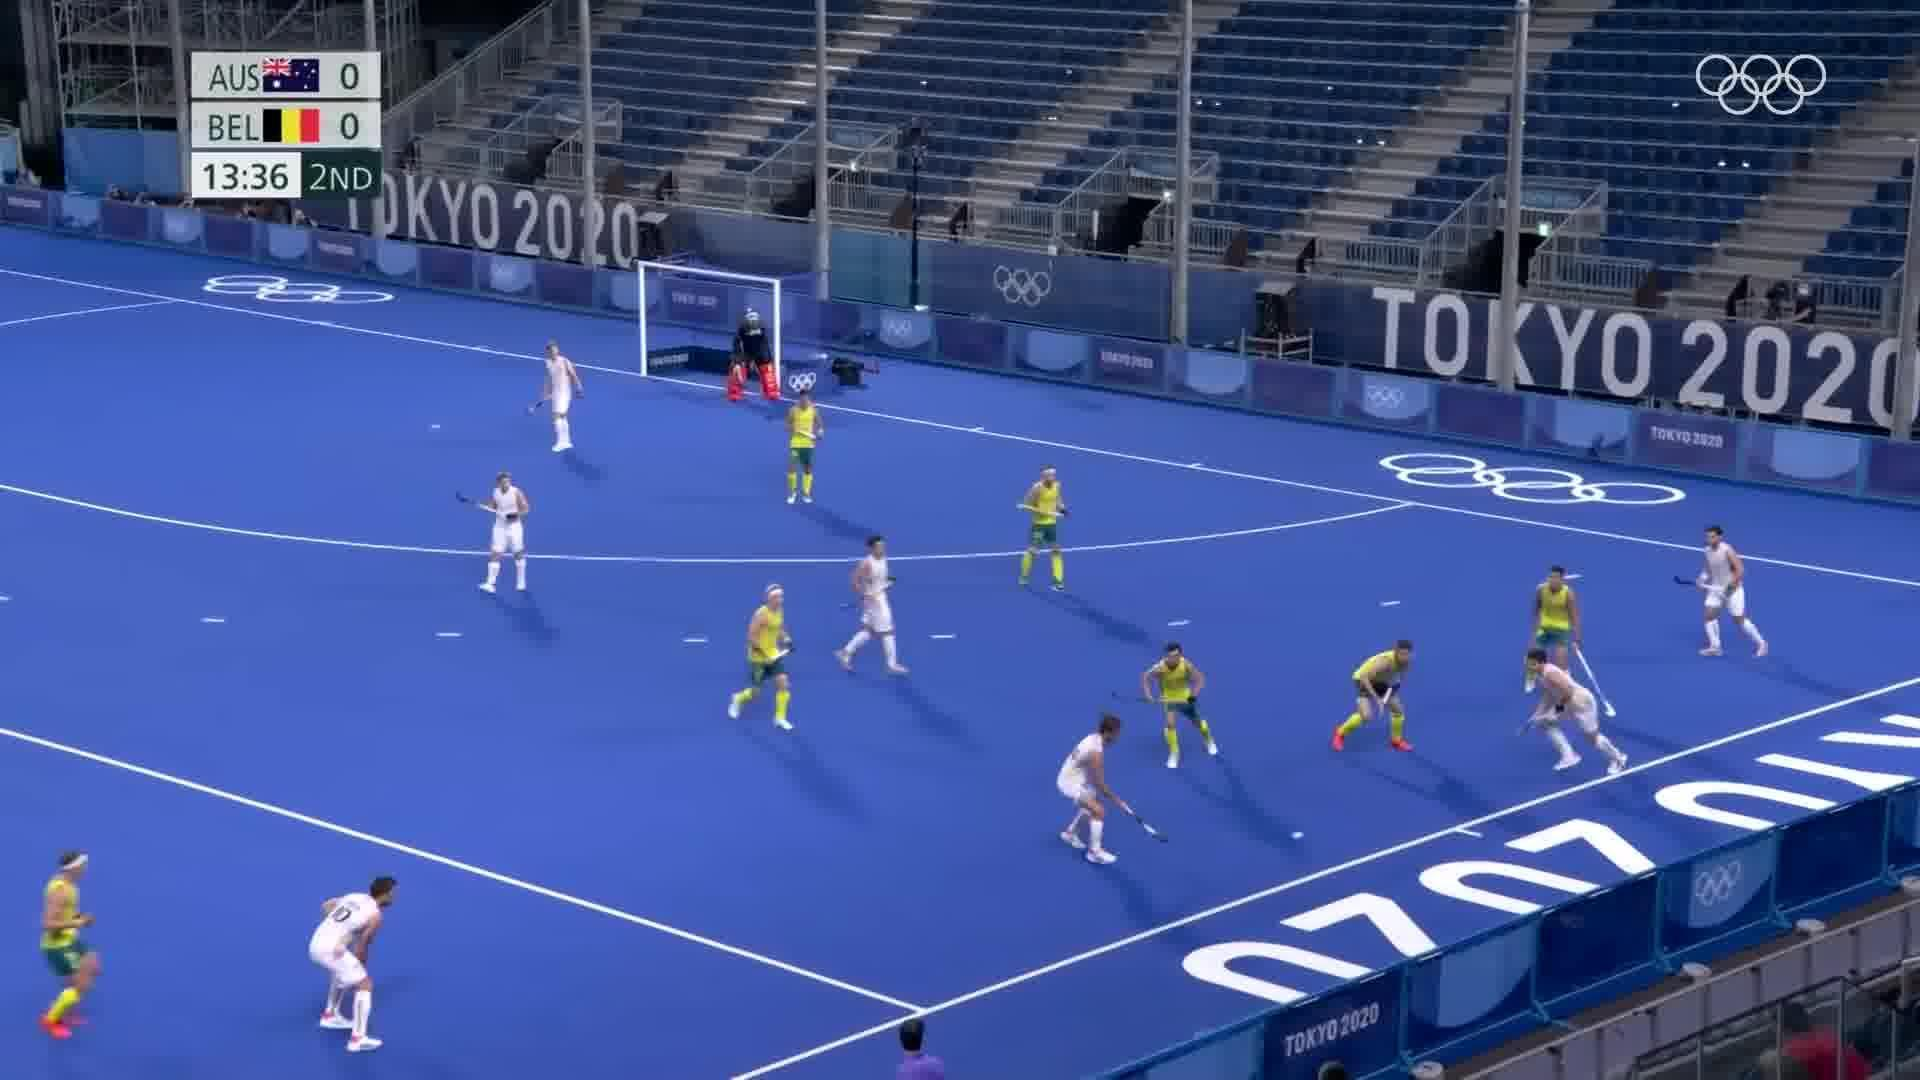ball: (1280, 819, 1321, 845)
